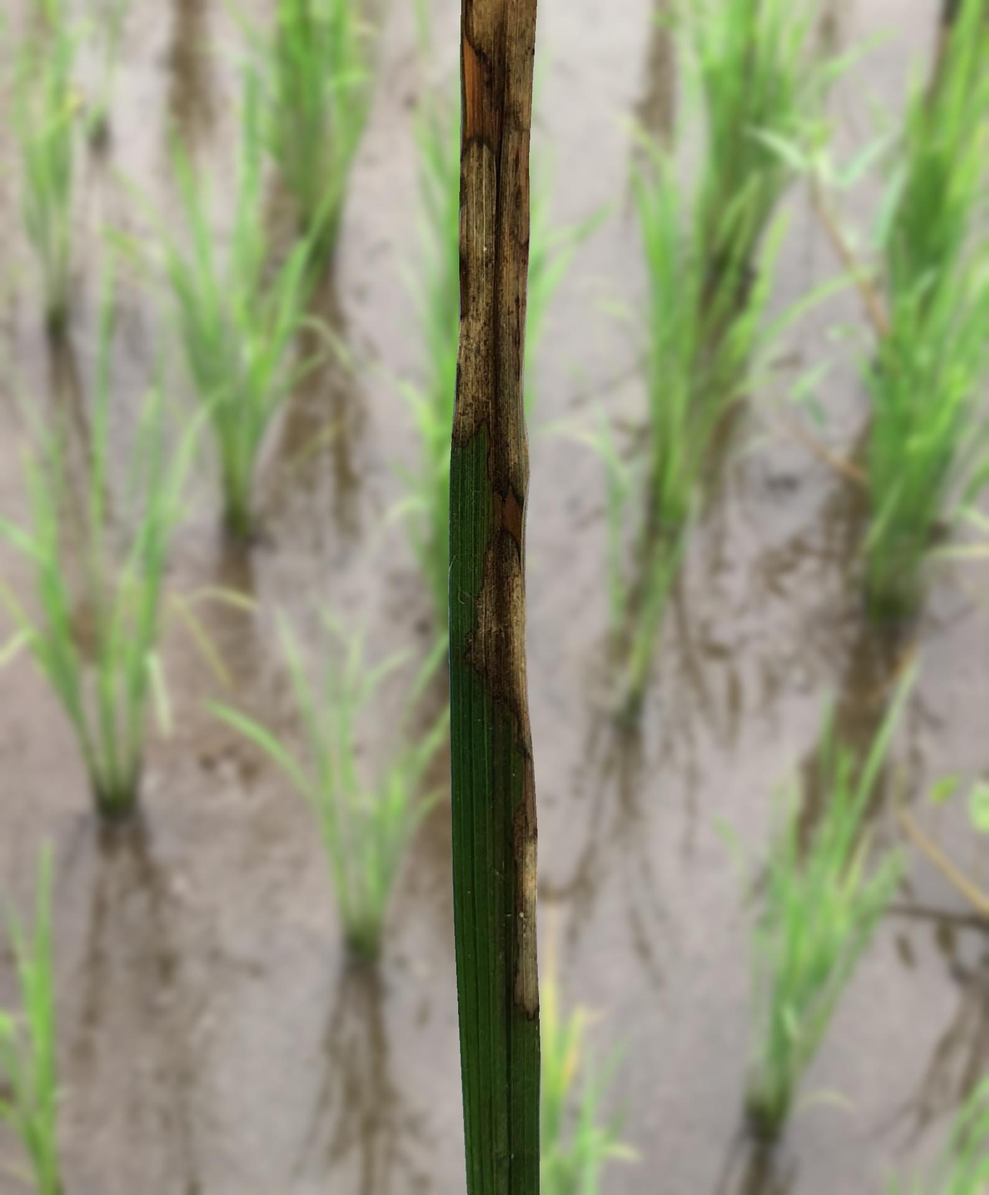BLB: (451, 0, 539, 1021)
LEAF: (448, 0, 540, 1194)
